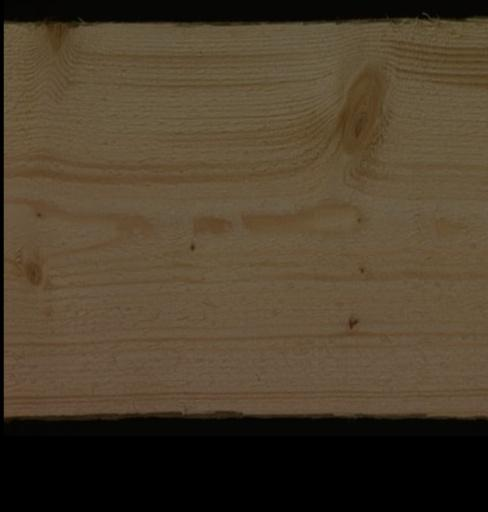small_knot: (336, 307, 367, 333), (341, 203, 371, 228), (350, 257, 368, 283), (28, 202, 48, 220), (185, 236, 203, 254)
sound_knot: (14, 246, 51, 289)
